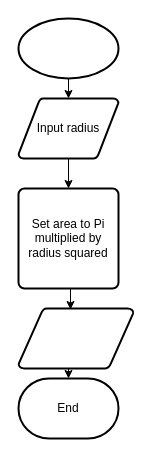
This 151x456 diagram has some shape labels left out. Here are the shapes that lost their labels. From the top down, the box of each, then its label:
(17, 17, 119, 79): Start
(17, 307, 134, 369): Output the area
